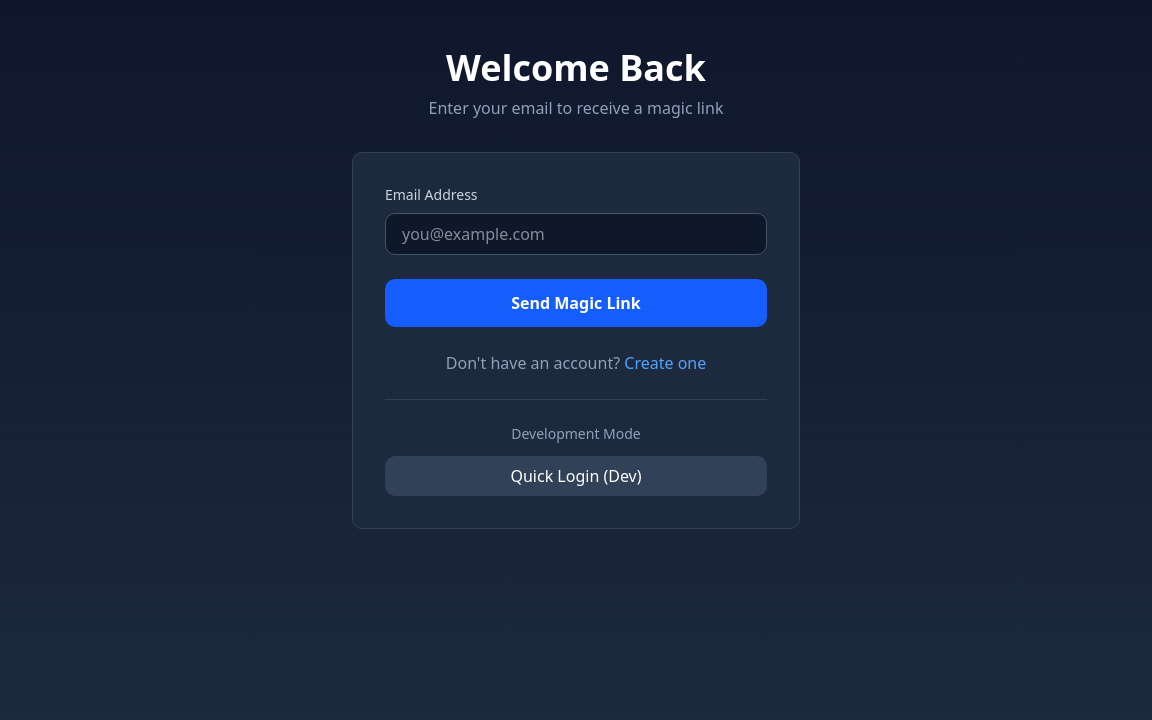
Scenario: Login Component › Magic Link Request Form › displays loading state while sending magic link
Type "test@example.com" into the field with placeholder "you@example.com". click: (576, 234)
box: [385,213,767,255]
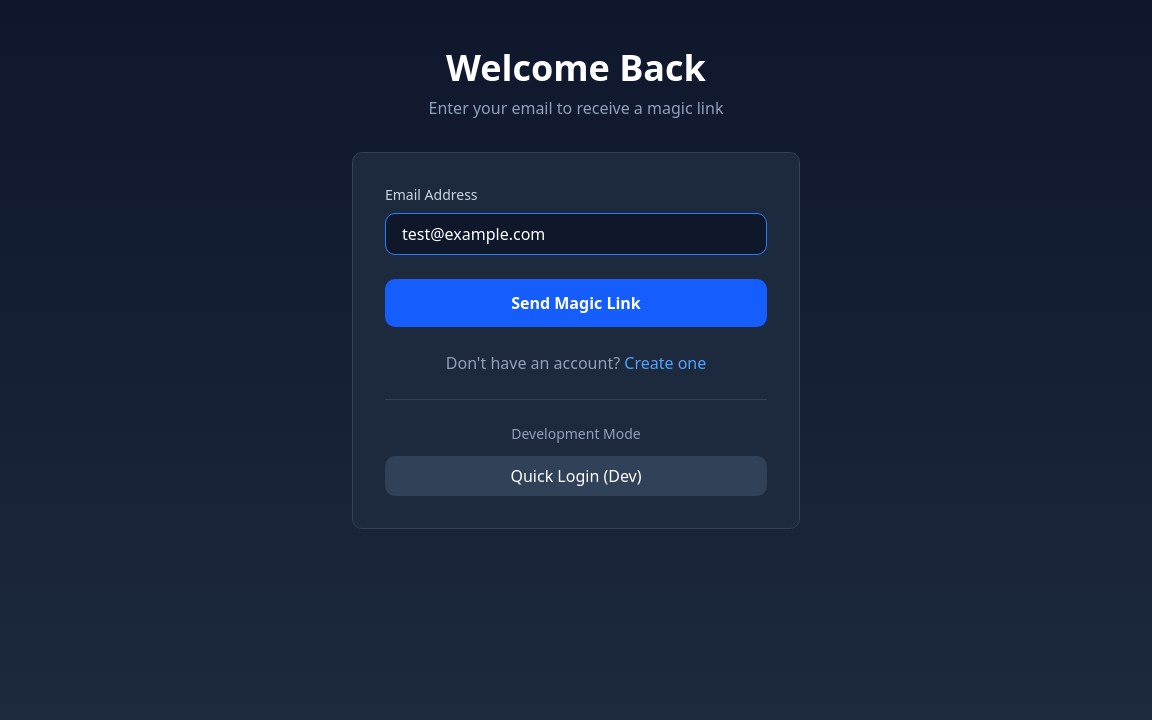
Click the button "Send Magic Link". click: (576, 303)
box: [385,279,767,327]
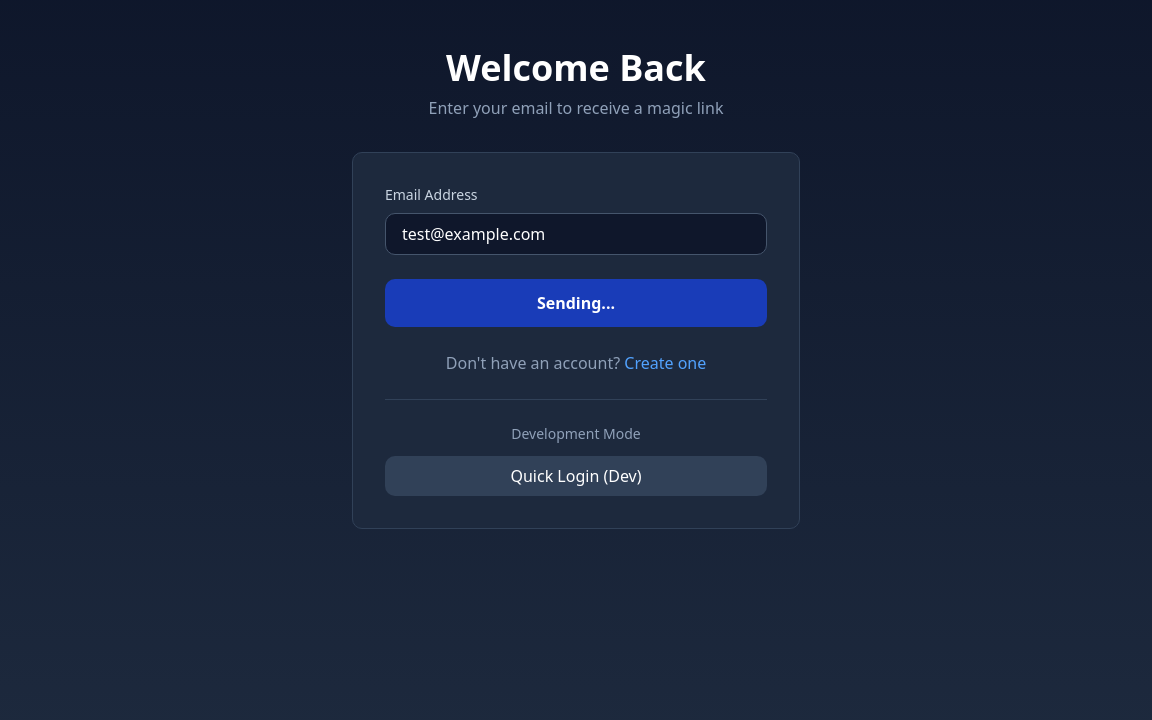
Expected: the button "Sending..." is disabled, [385,279,767,327]
